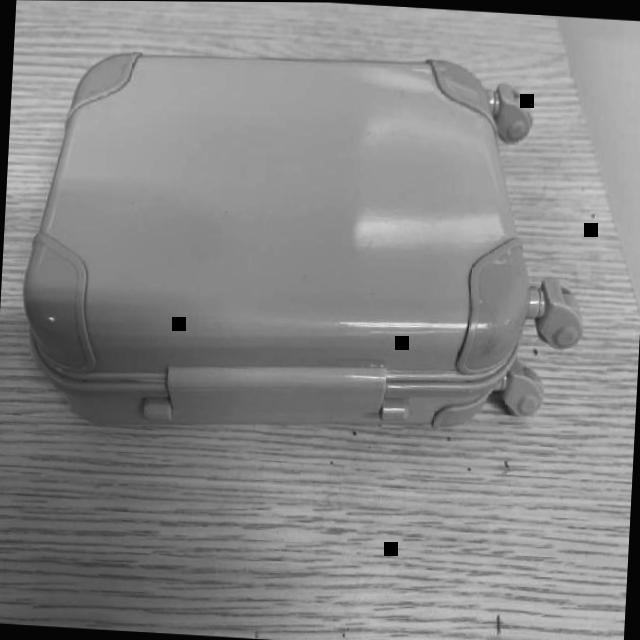luggage: (0, 17, 608, 471)
